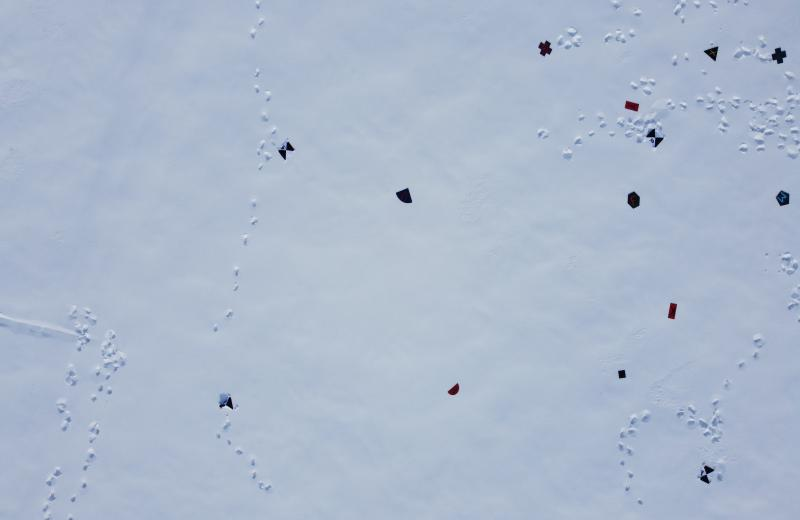Cross: (772, 48, 788, 64), (538, 40, 553, 57)
Hexagon: (627, 192, 641, 210)
Pentagon: (776, 189, 791, 207)
Quarter Circle: (396, 187, 413, 204)
Rectangle: (667, 302, 678, 320), (624, 100, 640, 112)
Semi Circle: (447, 382, 461, 396)
Square: (618, 369, 627, 380)
Triangle: (704, 46, 720, 62)
